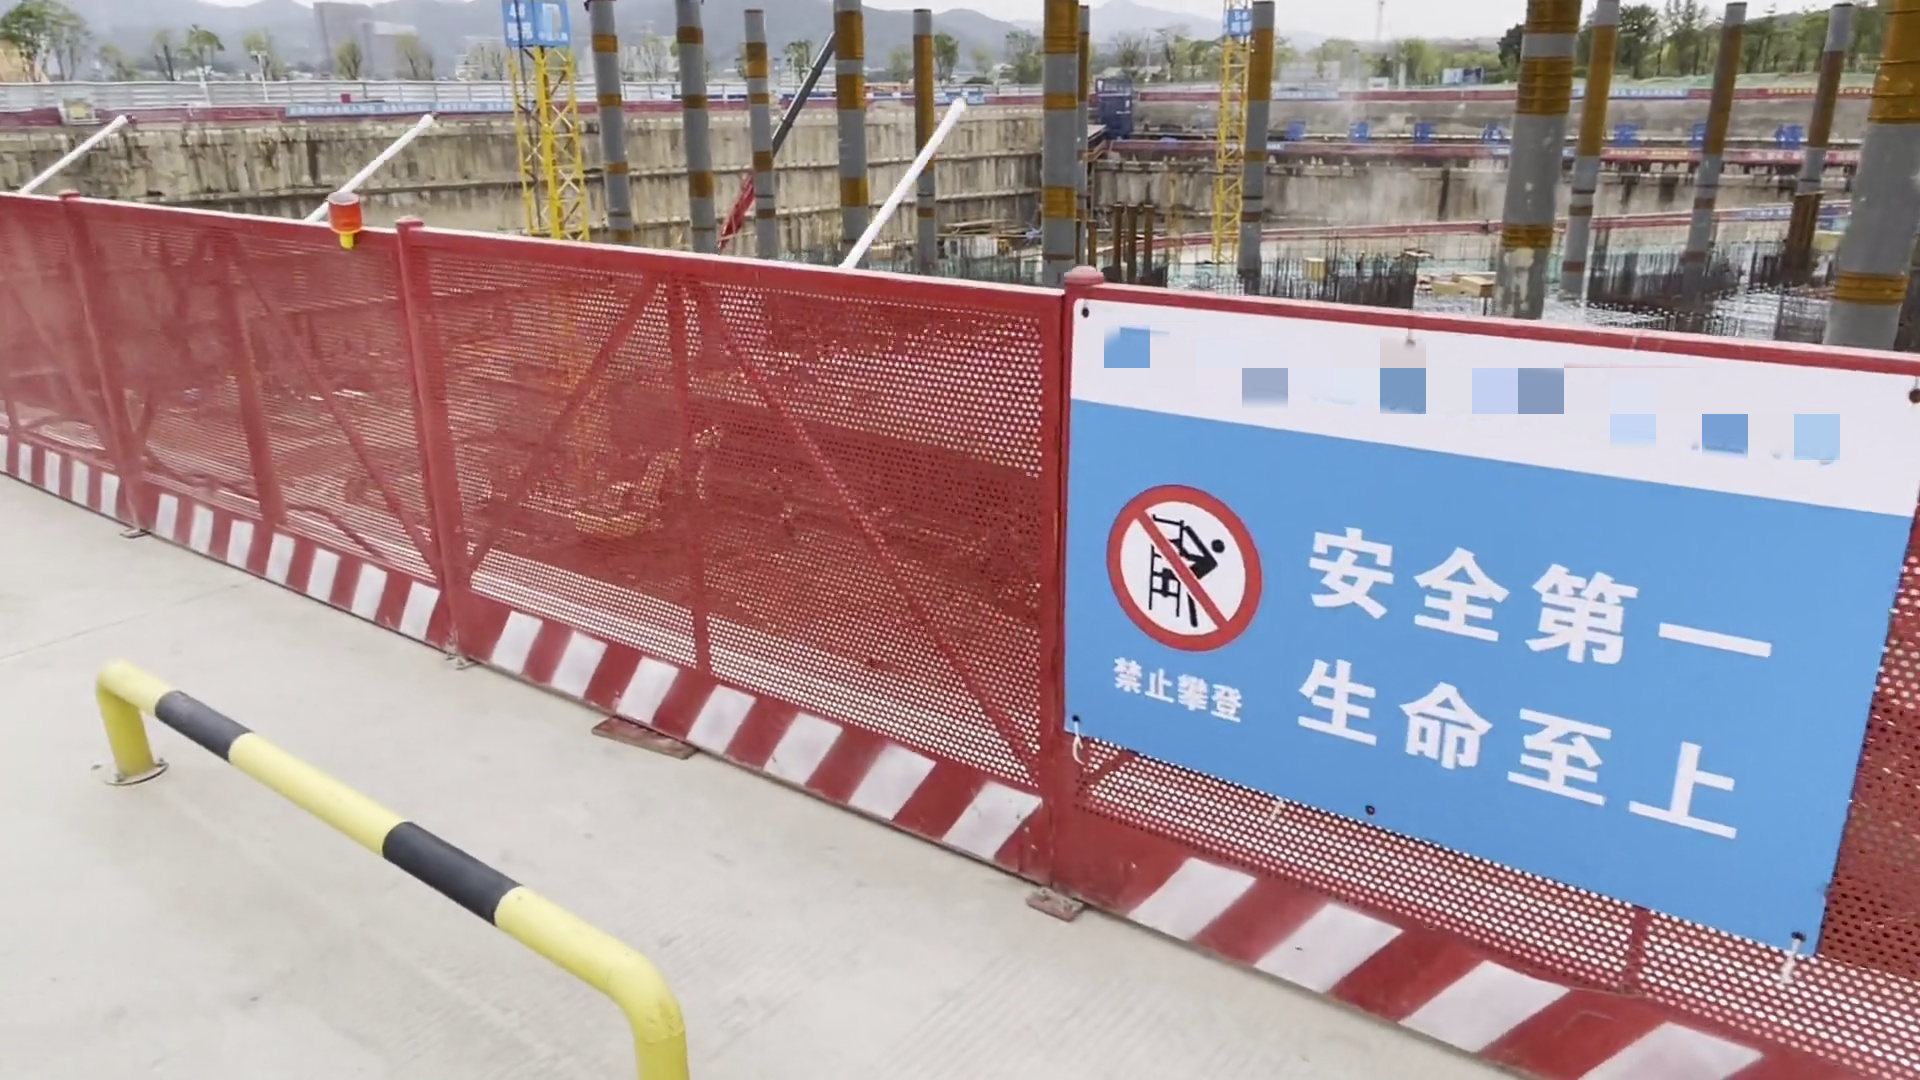fence: (1, 211, 1920, 1023)
slogan: (1054, 295, 1920, 976), (1282, 117, 1510, 148), (495, 1, 534, 45), (1222, 3, 1254, 40)
